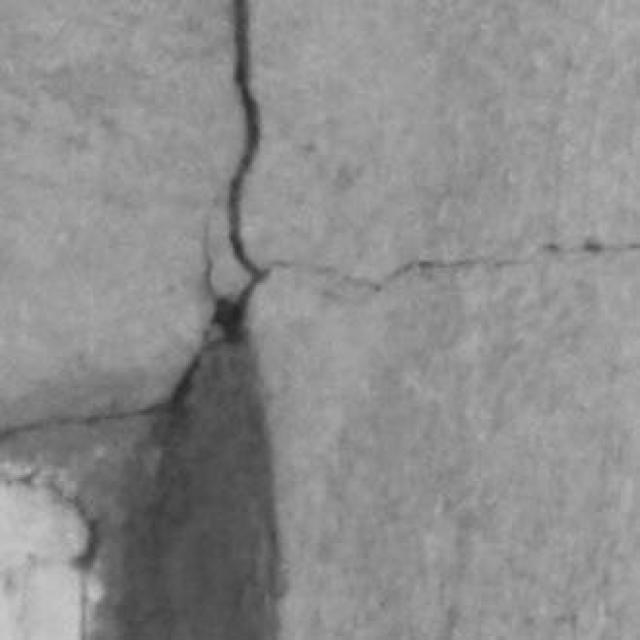crack: (149, 326, 281, 638), (266, 241, 639, 292), (214, 0, 267, 341), (229, 0, 263, 281), (0, 400, 170, 447)
